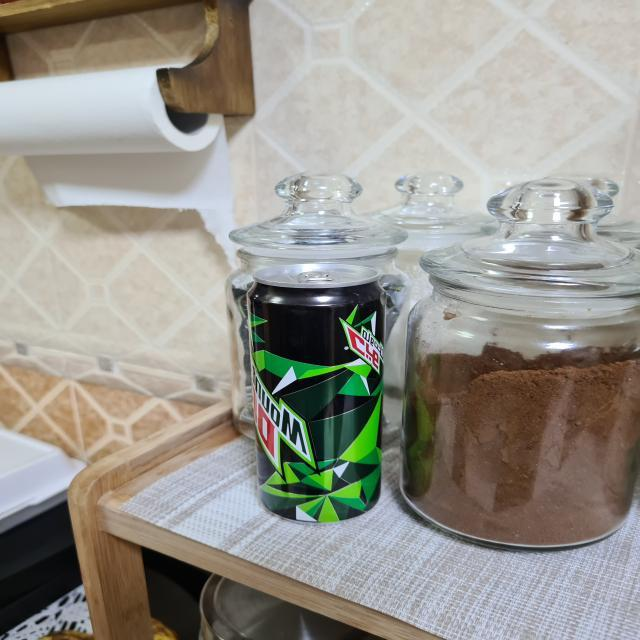can: (239, 264, 396, 530)
